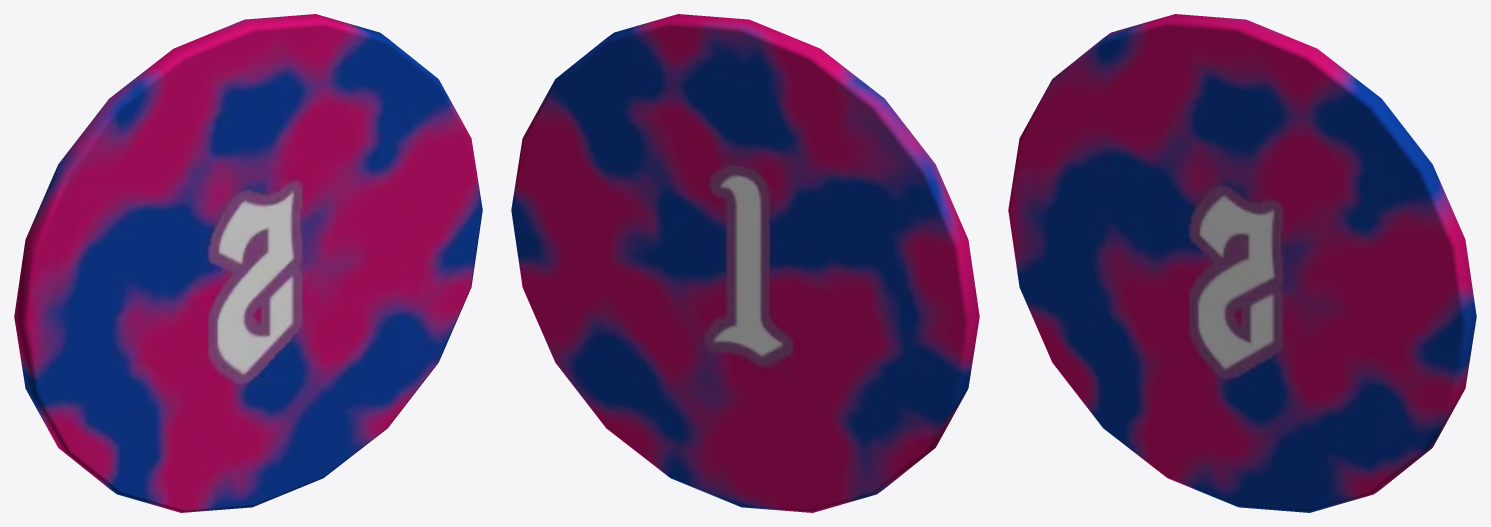
3 views of the same model, side by side, from view 1: azimuth 30°, elevation 25°; view 2: azimuth 150°, elevation 25°; view 3: azimuth 330°, elevation 25° (orthographic).
Visible parts, largest first — view 1: D2; view 2: D2; view 3: D2.
Part boxes in pixels (x1,y1,x2,y2): D2: [14, 14, 482, 512]; D2: [511, 14, 979, 512]; D2: [1008, 14, 1476, 512].
Size of the model in its own units: 182 by 182 by 9.11.
1 material, 1 textured.
